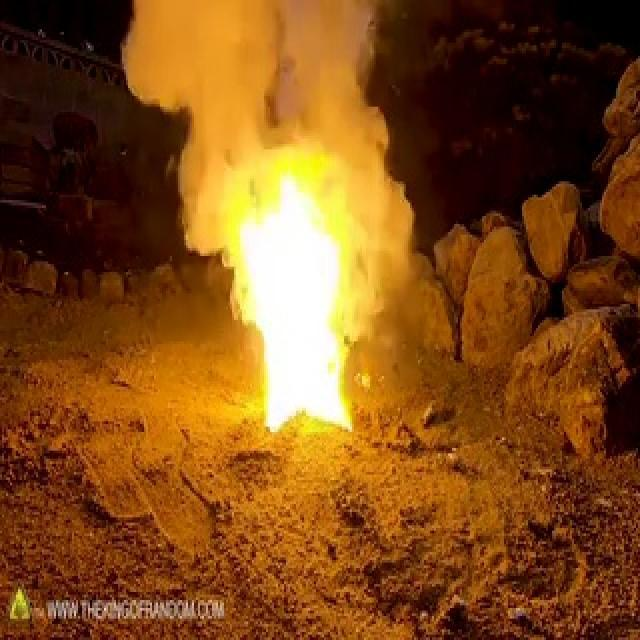Fire: (259, 253, 395, 398)
